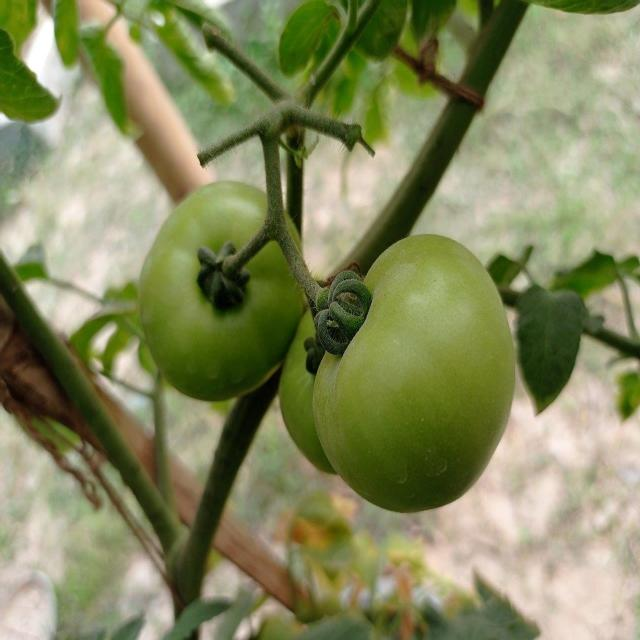Unripe: (310, 234, 515, 515), (138, 180, 306, 402)
